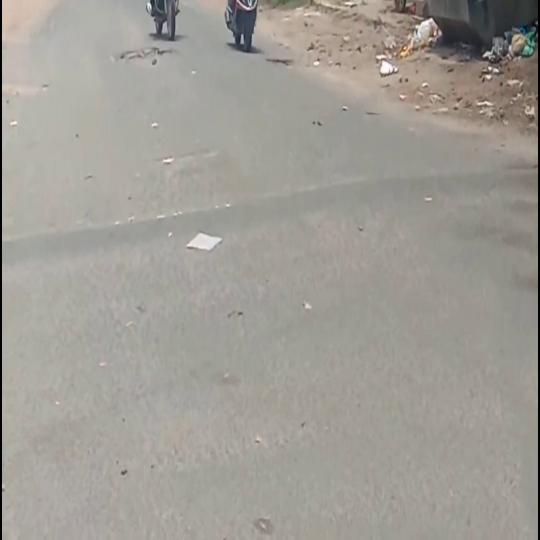Speed Bump: (2, 164, 538, 272)
